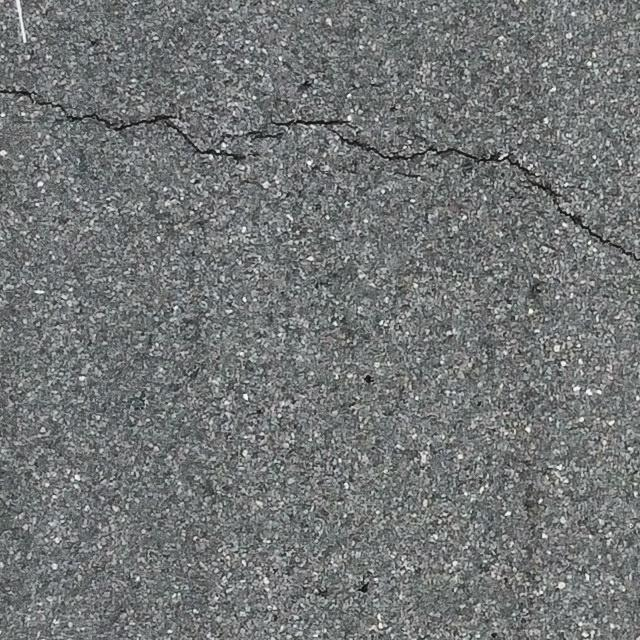TransverseCrack: (1, 88, 640, 259)
